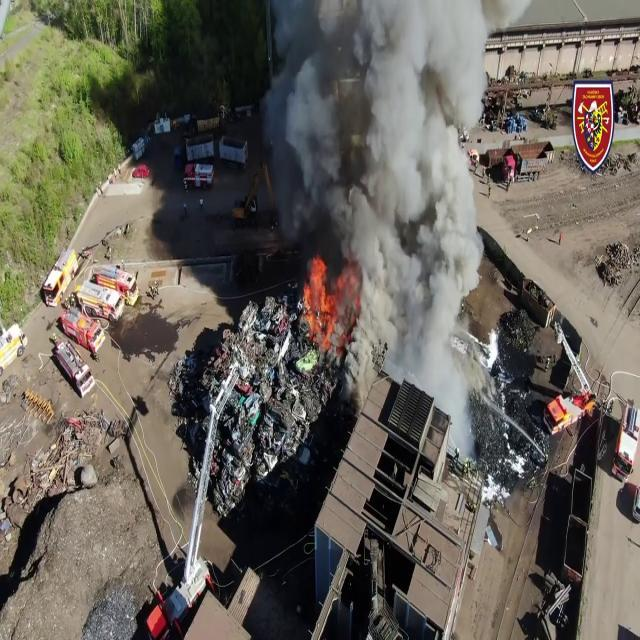Fire: (299, 250, 342, 353)
Smoke: (264, 0, 492, 407)
